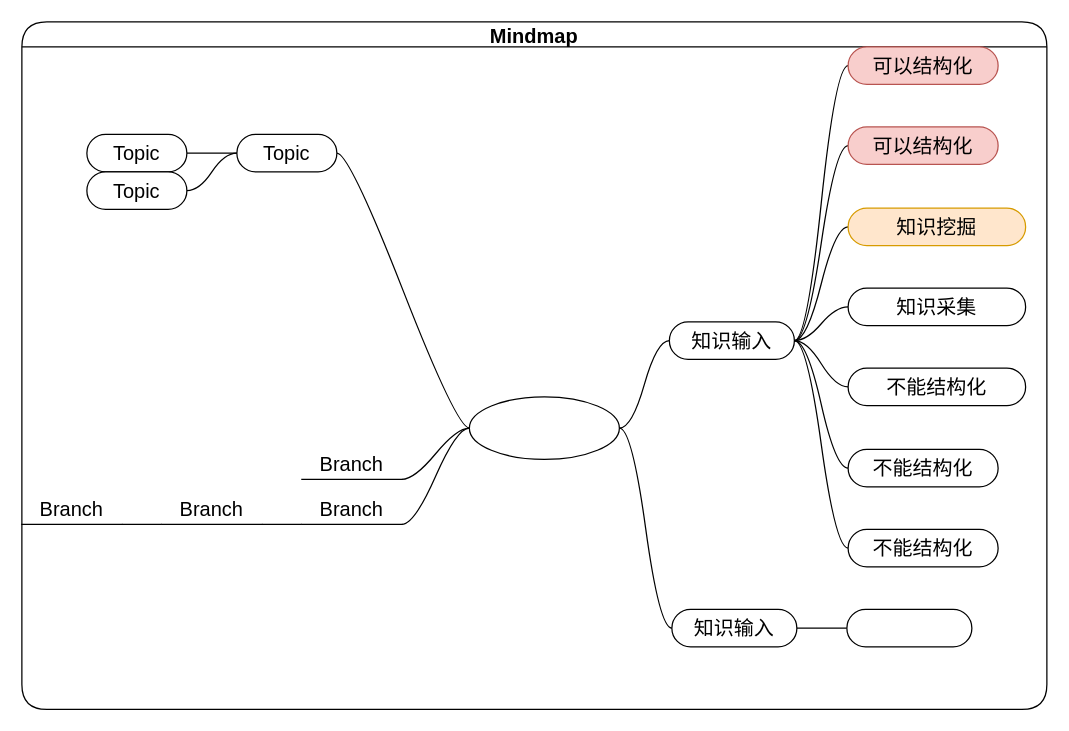
Some shapes in this 1069 by 731 pixel diagram are drawn without their labels. Here are the shapes that lost their labels. From the top down, the box of each, then its label:
(468, 396, 619, 459): 知识管理
(846, 608, 972, 647): 谁能
